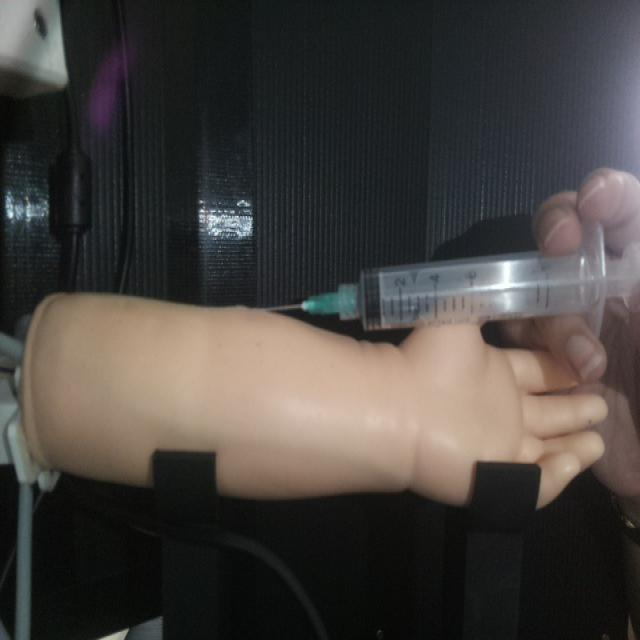Below 15 degrees: (262, 220, 637, 335)
